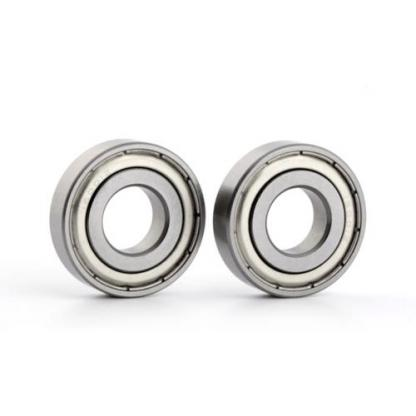FOD: (47, 134, 209, 301), (211, 135, 371, 300)
